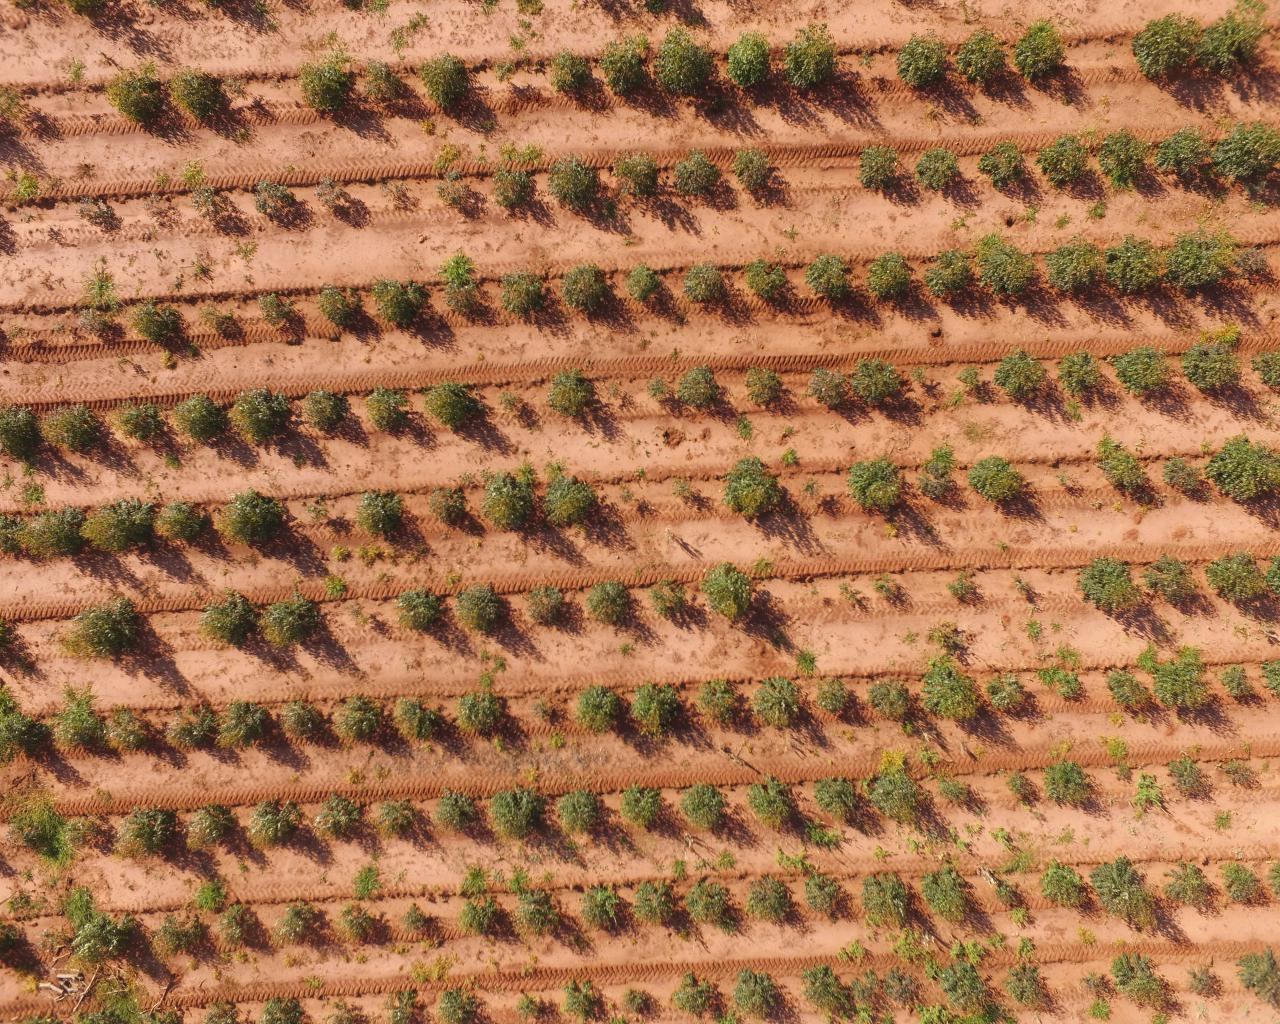Tree: (1011, 13, 1080, 115), (1198, 6, 1269, 100), (170, 57, 245, 143), (652, 23, 726, 107), (1170, 224, 1229, 328), (967, 452, 1048, 525), (781, 17, 841, 113), (1128, 8, 1194, 96), (430, 372, 507, 447), (1089, 856, 1161, 935), (955, 18, 1013, 116), (59, 594, 142, 660), (548, 142, 607, 235), (891, 26, 955, 113), (288, 55, 365, 127), (1038, 126, 1108, 205), (1209, 434, 1280, 510), (981, 242, 1047, 324), (375, 279, 453, 347), (851, 346, 913, 430), (548, 367, 612, 448), (419, 48, 489, 123), (1213, 121, 1280, 200), (1046, 237, 1108, 321), (102, 68, 177, 137), (672, 140, 737, 218), (611, 139, 667, 230), (1111, 234, 1167, 323), (1069, 552, 1143, 616), (722, 23, 777, 108), (1097, 123, 1158, 201), (922, 240, 978, 323), (1178, 336, 1246, 404), (1054, 347, 1121, 416), (996, 344, 1053, 422), (800, 253, 869, 318), (486, 159, 546, 232), (364, 52, 422, 127), (564, 265, 630, 332), (601, 36, 656, 115), (220, 485, 290, 546), (108, 800, 184, 857), (676, 360, 742, 425), (232, 382, 302, 443), (865, 246, 923, 319), (313, 281, 380, 344), (546, 38, 597, 119), (1158, 121, 1214, 193), (197, 585, 258, 652), (978, 140, 1042, 202), (499, 273, 565, 332), (88, 498, 157, 555), (735, 139, 790, 209), (681, 877, 744, 938), (260, 589, 325, 649), (918, 146, 979, 209), (369, 382, 429, 445), (134, 300, 200, 357), (167, 392, 233, 449), (1141, 551, 1202, 612), (719, 459, 784, 516), (544, 475, 609, 533), (27, 499, 84, 565), (46, 400, 113, 456), (920, 866, 980, 927), (857, 143, 915, 206), (797, 364, 856, 426), (1113, 345, 1171, 408), (681, 262, 745, 320), (487, 786, 550, 843), (847, 456, 910, 513), (1161, 860, 1220, 920), (351, 484, 414, 540), (700, 559, 753, 625), (312, 176, 373, 233), (254, 180, 317, 235), (1035, 859, 1095, 916), (253, 293, 315, 348), (188, 184, 249, 239), (1205, 550, 1265, 604), (305, 386, 368, 438), (628, 266, 682, 325), (923, 666, 980, 719), (869, 777, 928, 830), (631, 679, 682, 739), (187, 801, 243, 855), (1044, 758, 1100, 810), (745, 774, 796, 832), (432, 169, 485, 224), (573, 681, 624, 738), (675, 783, 731, 834), (455, 585, 508, 638), (217, 699, 273, 750), (270, 901, 329, 948), (811, 773, 862, 828), (747, 256, 794, 315), (395, 583, 448, 634), (743, 876, 797, 926), (150, 912, 211, 957), (199, 295, 251, 346), (554, 785, 605, 837), (629, 877, 680, 929), (1219, 857, 1270, 910), (159, 495, 213, 544), (246, 802, 305, 846), (854, 870, 911, 915), (748, 364, 796, 417), (1097, 458, 1160, 498), (481, 476, 526, 533), (615, 783, 665, 834), (1168, 757, 1219, 806), (584, 578, 632, 630), (2, 401, 45, 460), (753, 677, 800, 730), (76, 920, 139, 959), (164, 700, 213, 750), (333, 695, 385, 743), (430, 786, 479, 837), (577, 885, 626, 934), (335, 903, 392, 945), (521, 583, 568, 632), (694, 676, 741, 725), (373, 795, 422, 842), (937, 775, 988, 820), (1158, 453, 1205, 502), (313, 793, 363, 839), (394, 697, 442, 743), (114, 398, 165, 441), (108, 703, 154, 749), (277, 699, 325, 743), (445, 284, 495, 326), (615, 482, 660, 527), (867, 676, 913, 720), (1157, 672, 1205, 714), (496, 389, 542, 432), (797, 475, 842, 518), (461, 899, 507, 940), (668, 476, 715, 517), (456, 692, 501, 734), (375, 178, 422, 217), (428, 485, 470, 528), (870, 571, 913, 611), (79, 199, 129, 234), (647, 579, 691, 619), (517, 895, 561, 935), (399, 901, 445, 938), (944, 566, 983, 609), (304, 497, 345, 538), (54, 721, 106, 753), (1220, 662, 1259, 704), (219, 910, 264, 946), (985, 672, 1025, 712), (1104, 671, 1148, 706), (913, 467, 955, 504), (909, 365, 950, 401), (816, 680, 858, 716), (527, 695, 572, 727), (806, 876, 843, 914), (646, 374, 679, 417), (1052, 468, 1087, 505), (1006, 771, 1040, 809), (1009, 572, 1043, 605), (956, 359, 990, 393), (838, 579, 867, 615)
